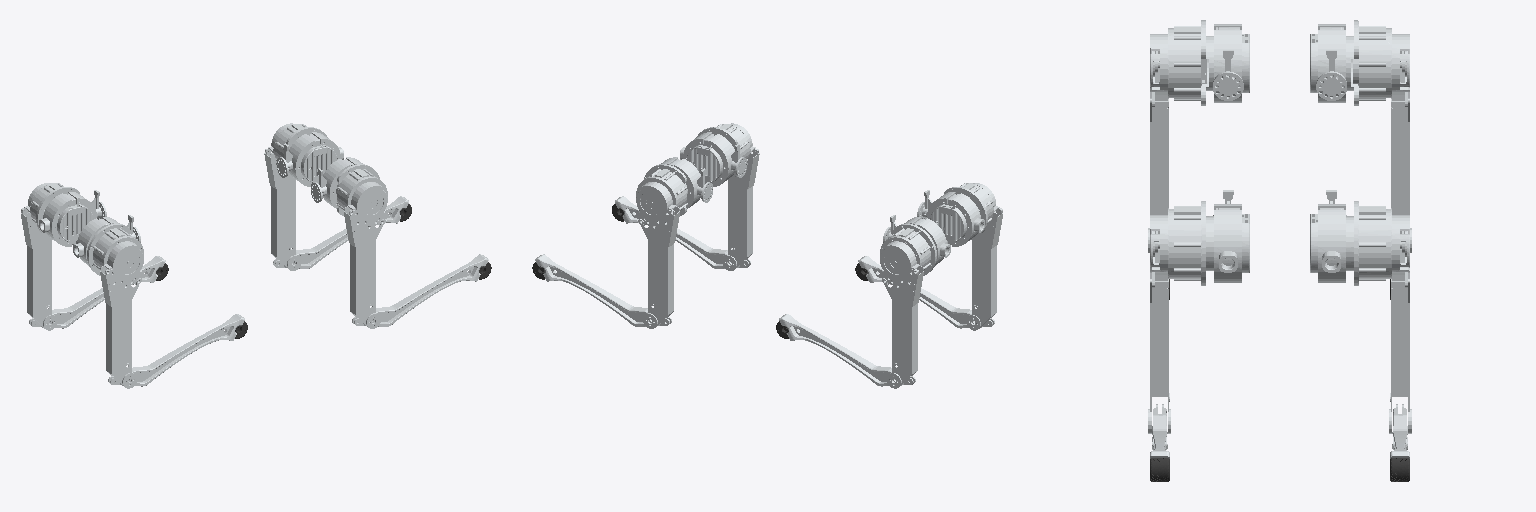
robot.urdf — 00000JQG:
<?xml version="1.0" encoding="utf-8"?>
<!-- This URDF was automatically created by SolidWorks to URDF Exporter! Originally created by Stephen Brawner (brawner@gmail.com) 
     Commit Version: 1.6.0-4-g7f85cfe  Build Version: 1.6.7995.38578
     For more information, please see http://wiki.ros.org/sw_urdf_exporter -->
<robot
  name="00000JQG">
  <link
    name="base_link">
    <inertial>
      <origin
        xyz="-1.14439237375032E-13 1.15794142292781E-10 0.00190965947230648"
        rpy="0 0 0" />
      <mass
        value="14.58560949" />
      <inertia
        ixx="0.14349257"
        ixy="-0.00026718"
        ixz="-0.00157087"
        iyy="0.74616979"
        iyz="-0.00087515"
        izz="0.81208549" />
    </inertial>
    <visual>
      <origin
        xyz="0 0 0"
        rpy="0 0 0" />
      <geometry>
        <mesh
          filename="../meshes/base_link.STL" />
      </geometry>
      <material
        name="">
        <color
          rgba="0.898039215686275 0.917647058823529 0.929411764705882 1" />
      </material>
    </visual>
    <collision>
      <origin
        xyz="0 0 -0.014"
        rpy="0 0 0" />
      <geometry>
        <box size="0.52 0.20 0.13" />
      </geometry>
    </collision>
  </link>
  <link
    name="FL_hip_Link">
    <inertial>
      <origin
        xyz="0.0822261183438385 -0.00402505837262611 0.000225084195334319"
        rpy="0 0 0" />
      <mass
        value="1.63082880 " />
      <inertia
        ixx="0.00178766"
        ixy="0.00001170"
        ixz="0.00003056"
        iyy="0.00339445"
        iyz="-0.00000246"
        izz="0.00227765" />
    </inertial>
    <visual>
      <origin
        xyz="0 0 0"
        rpy="0 0 0" />
      <geometry>
        <mesh
          filename="../meshes/FL_hip_Link.STL" />
      </geometry>
      <material
        name="">
        <color
          rgba="0.898039215686275 0.917647058823529 0.929411764705882 1" />
      </material>
    </visual>
    <collision>
      <origin
        xyz="0.078 -0.0045 0"
        rpy="0 1.57079632679 0" />
      <geometry>
        <cylinder radius="0.048" length="0.140" />
      </geometry>
    </collision>
  </link>
  <joint
    name="FL_hip_joint"
    type="revolute">
    <origin
      xyz="0.256 0.082501 0.021382"
      rpy="0 0 0" />
    <parent
      link="base_link" />
    <child
      link="FL_hip_Link" />
    <axis
      xyz="-1 0 0" />
    <limit
      lower="-0.5183627878423158"
      upper="0.5183627878423158"
      effort="150"
      velocity="15.71" />
  </joint>
  <link
    name="FL_thigh_Link">
    <inertial>
      <origin
        xyz="-0.00258422324870489 0.0515511863485175 -0.028055285585933"
        rpy="0 0 0" />
      <mass
        value="2.22785066" />
      <inertia
        ixx="0.01460195"
        ixy="0.00035401"
        ixz="-0.00098202"
        iyy="0.01475298"
        iyz="0.00216812"
        izz="0.00338528" />
    </inertial>
    <visual>
      <origin
        xyz="0 0 0"
        rpy="0 0 0" />
      <geometry>
        <mesh
          filename="../meshes/FL_thigh_Link.STL" />
      </geometry>
      <material
        name="">
        <color
          rgba="0.898039215686275 0.917647058823529 0.929411764705882 1" />
      </material>
    </visual>
    <collision>
      <origin
        xyz="-0.00051105 0.1085 -0.15625"
        rpy="0 0 0" />
      <geometry>
        <cylinder radius="0.032" length="0.290" />
      </geometry>
    </collision>
    <collision>
      <origin
        xyz="0 0.054 0"
        rpy="1.57079632679 0 0" />
      <geometry>
        <cylinder radius="0.052" length="0.080" />
      </geometry>
    </collision>
  </link>
  <joint
    name="FL_thigh_joint"
    type="revolute">
    <origin
      xyz="0.084 0.019 0"
      rpy="0 0 0" />
    <parent
      link="FL_hip_Link" />
    <child
      link="FL_thigh_Link" />
    <axis
      xyz="0 -1 0" />
    <limit
      lower="-3.141592653589793"
      upper="3.141592653589793"
      effort="150"
      velocity="15.71" />
  </joint>
  <link
    name="FL_calf_Link">
    <inertial>
      <origin
        xyz="-0.03151465549264 -0.0185015919324566 -0.154508375835849"
        rpy="0 0 0" />
      <mass
        value="0.31845032" />
      <inertia
        ixx="0.00459680"
        ixy="0"
        ixz="-0.00064576"
        iyy="0.00473427"
        iyz="0"
        izz="0.00016433" />
    </inertial>
    <visual>
      <origin
        xyz="0 0 0"
        rpy="0 0 0" />
      <geometry>
        <mesh
          filename="../meshes/FL_calf_Link.STL" />
      </geometry>
      <material
        name="">
        <color
          rgba="0.898039215686275 0.917647058823529 0.929411764705882 1" />
      </material>
    </visual>
    <collision>
      <origin
        xyz="-0.02925 -0.00627 -0.15363"
        rpy="0 1.7587 0" />
      <geometry>
        <box size="0.275 0.016 0.016" />
      </geometry>
    </collision>
  </link>
  <joint
    name="FL_calf_joint"
    type="revolute">
    <origin
      xyz="-0.00051105 0.1085 -0.3125"
      rpy="0 0 0" />
    <parent
      link="FL_thigh_Link" />
    <child
      link="FL_calf_Link" />
    <axis
      xyz="0 -1 0" />
    <limit
      lower="1.0471975511965976"
      upper="2.8797932657906435"
      effort="150"
      velocity="15.71" />
  </joint>
  <link
    name="FL_foot_Link">
    <inertial>
      <origin
        xyz="-0.00835898202593893 -0.00605377894846279 -0.00560196910924343"
        rpy="0 0 0" />
      <mass
        value="0.02703752" />
      <inertia
        ixx="0.00000583"
        ixy="0"
        ixz="0.00000127"
        iyy="0.00000596"
        iyz="0"
        izz="0.00000480" />
    </inertial>
    <visual>
      <origin
        xyz="0 0 0"
        rpy="0 0 0" />
      <geometry>
        <mesh
          filename="../meshes/FL_foot_Link.STL" />
      </geometry>
      <material
        name="">
        <color
          rgba="0.298039215686275 0.298039215686275 0.298039215686275 1" />
      </material>
    </visual>
    <collision>
      <origin
        xyz="-0.0055 -0.006 -0.002"
        rpy="0 0 0" />
      <geometry>
        <sphere radius="0.019" />
      </geometry>
    </collision>
  </link>
  <joint
    name="FL_foot_joint"
    type="fixed">
    <origin
      xyz="-0.058509 -0.012548 -0.30725"
      rpy="0 0 0" />
    <parent
      link="FL_calf_Link" />
    <child
      link="FL_foot_Link" />
    <axis
      xyz="0 0 0" />
  </joint>
  <link
    name="FR_hip_Link">
    <inertial>
      <origin
        xyz="0.0822403790820989 0.00402608151966141 0.000225084195334291"
        rpy="0 0 0" />
      <mass
        value="1.63082880 " />
      <inertia
        ixx="0.00178766"
        ixy="-0.00001198"
        ixz="0.00002973"
        iyy="0.00339445"
        iyz="0.00000246"
        izz="0.00227772" />
    </inertial>
    <visual>
      <origin
        xyz="0 0 0"
        rpy="0 0 0" />
      <geometry>
        <mesh
          filename="../meshes/FR_hip_Link.STL" />
      </geometry>
      <material
        name="">
        <color
          rgba="0.898039215686275 0.917647058823529 0.929411764705882 1" />
      </material>
    </visual>
    <collision>
      <origin
        xyz="0.078 0.0045 0"
        rpy="0 1.57079632679 0" />
      <geometry>
        <cylinder radius="0.048" length="0.140" />
      </geometry>
    </collision>
  </link>
  <joint
    name="FR_hip_joint"
    type="revolute">
    <origin
      xyz="0.256 -0.082501 0.021382"
      rpy="0 0 0" />
    <parent
      link="base_link" />
    <child
      link="FR_hip_Link" />
    <axis
      xyz="-1 0 0" />
    <limit
      lower="-0.5183627878423158"
      upper="0.5183627878423158"
      effort="150"
      velocity="15.71" />
  </joint>
  <link
    name="FR_thigh_Link">
    <inertial>
      <origin
        xyz="-0.00292461336790084 -0.0515461904599887 -0.0280599476657899"
        rpy="0 0 0" />
      <mass
        value="2.22785066" />
      <inertia
        ixx="0.01460195"
        ixy="-0.00032988"
        ixz="-0.00096253"
        iyy="0.01474883"
        iyz="-0.00216834"
        izz="0.00338141" />
    </inertial>
    <visual>
      <origin
        xyz="0 0 0"
        rpy="0 0 0" />
      <geometry>
        <mesh
          filename="../meshes/FR_thigh_Link.STL" />
      </geometry>
      <material
        name="">
        <color
          rgba="0.898039215686275 0.917647058823529 0.929411764705882 1" />
      </material>
    </visual>
    <collision>
      <origin
        xyz="-0.00049105 -0.1085 -0.15625"
        rpy="0 0 0" />
      <geometry>
        <cylinder radius="0.032" length="0.290" />
      </geometry>
    </collision>
    <collision>
      <origin
        xyz="0 -0.054 0"
        rpy="1.57079632679 0 0" />
      <geometry>
        <cylinder radius="0.052" length="0.080" />
      </geometry>
    </collision>
  </link>
  <joint
    name="FR_thigh_joint"
    type="revolute">
    <origin
      xyz="0.084 -0.019 0"
      rpy="0 0 0" />
    <parent
      link="FR_hip_Link" />
    <child
      link="FR_thigh_Link" />
    <axis
      xyz="0 1 0" />
    <limit
      lower="-3.141592653589793"
      upper="3.141592653589793"
      effort="150"
      velocity="15.71" />
  </joint>
  <link
    name="FR_calf_Link">
    <inertial>
      <origin
        xyz="-0.0315346561197509 0.0184965228186439 -0.154520872274196"
        rpy="0 0 0" />
      <mass
        value="0.31845032" />
      <inertia
        ixx="0.00459680"
        ixy="0"
        ixz="-0.00064576"
        iyy="0.00473427"
        iyz="0"
        izz="0.00016433" />
    </inertial>
    <visual>
      <origin
        xyz="0 0 0"
        rpy="0 0 0" />
      <geometry>
        <mesh
          filename="../meshes/FR_calf_Link.STL" />
      </geometry>
      <material
        name="">
        <color
          rgba="0.898039215686275 0.917647058823529 0.929411764705882 1" />
      </material>
    </visual>
    <collision>
      <origin
        xyz="-0.02926 0.00627 -0.15363"
        rpy="0 1.7587 0" />
      <geometry>
        <box size="0.275 0.016 0.016" />
      </geometry>
    </collision>
  </link>
  <joint
    name="FR_calf_joint"
    type="revolute">
    <origin
      xyz="-0.00049105 -0.1085 -0.31249"
      rpy="0 0 0" />
    <parent
      link="FR_thigh_Link" />
    <child
      link="FR_calf_Link" />
    <axis
      xyz="0 1 0" />
    <limit
      lower="-2.8797932657906435"
      upper="-1.0471975511965976"
      effort="150"
      velocity="15.71" />
  </joint>
  <link
    name="FR_foot_Link">
    <inertial>
      <origin
        xyz="-0.00835893154116901 0.00605376747239483 -0.00560213441994689"
        rpy="0 0 0" />
      <mass
        value="0.02703752" />
      <inertia
        ixx="0.00000583"
        ixy="0"
        ixz="0.00000127"
        iyy="0.00000596"
        iyz="0"
        izz="0.00000480" />
    </inertial>
    <visual>
      <origin
        xyz="0 0 0"
        rpy="0 0 0" />
      <geometry>
        <mesh
          filename="../meshes/FR_foot_Link.STL" />
      </geometry>
      <material
        name="">
        <color
          rgba="0.298039215686275 0.298039215686275 0.298039215686275 1" />
      </material>
    </visual>
    <collision>
      <origin
        xyz="-0.0055 0.006 -0.002"
        rpy="0 0 0" />
      <geometry>
        <sphere radius="0.019" />
      </geometry>
    </collision>
  </link>
  <joint
    name="FR_foot_joint"
    type="fixed">
    <origin
      xyz="-0.058529 0.012548 -0.30726"
      rpy="0 0 0" />
    <parent
      link="FR_calf_Link" />
    <child
      link="FR_foot_Link" />
    <axis
      xyz="0 0 0" />
  </joint>
  <link
    name="RL_hip_Link">
    <inertial>
      <origin
        xyz="-0.0822403774630709 -0.00402658465062838 0.000224748006798142"
        rpy="0 0 0" />
      <mass
        value="1.63082880 " />
      <inertia
        ixx="0.00178766"
        ixy="-0.00001198"
        ixz="-0.00002973"
        iyy="0.00339454"
        iyz="-0.00000246"
        izz="0.00227772" />
    </inertial>
    <visual>
      <origin
        xyz="0 0 0"
        rpy="0 0 0" />
      <geometry>
        <mesh
          filename="../meshes/RL_hip_Link.STL" />
      </geometry>
      <material
        name="">
        <color
          rgba="0.898039215686275 0.917647058823529 0.929411764705882 1" />
      </material>
    </visual>
    <collision>
      <origin
        xyz="-0.078 -0.0045 0"
        rpy="0 1.57079632679 0" />
      <geometry>
        <cylinder radius="0.048" length="0.140" />
      </geometry>
    </collision>
  </link>
  <joint
    name="RL_hip_joint"
    type="revolute">
    <origin
      xyz="-0.256 0.082501 0.021382"
      rpy="0 0 0" />
    <parent
      link="base_link" />
    <child
      link="RL_hip_Link" />
    <axis
      xyz="1 0 0" />
    <limit
      lower="-0.5183627878423158"
      upper="0.5183627878423158"
      effort="150"
      velocity="15.71" />
  </joint>
  <link
    name="RL_thigh_Link">
    <inertial>
      <origin
        xyz="-0.00455770829798774 0.0515517812254213 -0.0280547720885476"
        rpy="0 0 0" />
      <mass
        value="2.22785066" />
      <inertia
        ixx="0.01460274"
        ixy="0.00021505"
        ixz="-0.00086967"
        iyy="0.01472577"
        iyz="0.00216812"
        izz="0.00335807" />
    </inertial>
    <visual>
      <origin
        xyz="0 0 0"
        rpy="0 0 0" />
      <geometry>
        <mesh
          filename="../meshes/RL_thigh_Link.STL" />
      </geometry>
      <material
        name="">
        <color
          rgba="0.898039215686275 0.917647058823529 0.929411764705882 1" />
      </material>
    </visual>
    <collision>
      <origin
        xyz="-0.00051106 0.1085 -0.15625"
        rpy="0 0 0" />
      <geometry>
        <cylinder radius="0.032" length="0.290" />
      </geometry>
    </collision>
    <collision>
      <origin
        xyz="0 0.054 0"
        rpy="1.57079632679 0 0" />
      <geometry>
        <cylinder radius="0.052" length="0.080" />
      </geometry>
    </collision>
  </link>
  <joint
    name="RL_thigh_joint"
    type="revolute">
    <origin
      xyz="-0.084 0.018999 0"
      rpy="0 0 0" />
    <parent
      link="RL_hip_Link" />
    <child
      link="RL_thigh_Link" />
    <axis
      xyz="0 -1 0" />
    <limit
      lower="-3.141592653589793"
      upper="3.141592653589793"
      effort="150"
      velocity="15.71" />
  </joint>
  <link
    name="RL_calf_Link">
    <inertial>
      <origin
        xyz="-0.031677984761081 -0.0185015910996491 -0.154668496603852"
        rpy="0 0 0" />
      <mass
        value="0.31845032" />
      <inertia
        ixx="0.00459680"
        ixy="0"
        ixz="-0.00064576"
        iyy="0.00473427"
        iyz="0"
        izz="0.00016433" />
    </inertial>
    <visual>
      <origin
        xyz="0 0 0"
        rpy="0 0 0" />
      <geometry>
        <mesh
          filename="../meshes/RL_calf_Link.STL" />
      </geometry>
      <material
        name="">
        <color
          rgba="0.898039215686275 0.917647058823529 0.929411764705882 1" />
      </material>
    </visual>
    <collision>
      <origin
        xyz="-0.02926 -0.00627 -0.15385"
        rpy="0 1.7587 0" />
      <geometry>
        <box size="0.275 0.016 0.016" />
      </geometry>
    </collision>
  </link>
  <joint
    name="RL_calf_joint"
    type="revolute">
    <origin
      xyz="-0.00051106 0.1085 -0.3125"
      rpy="0 0 0" />
    <parent
      link="RL_thigh_Link" />
    <child
      link="RL_calf_Link" />
    <axis
      xyz="0 -1 0" />
    <limit
      lower="1.0471975511965976"
      upper="2.8797932657906435"
      effort="150"
      velocity="15.71" />
  </joint>
  <link
    name="RL_foot_Link">
    <inertial>
      <origin
        xyz="-0.00836046459175221 -0.00584617034022727 -0.00559982673195092"
        rpy="0 0 0" />
      <mass
        value="0.02703752" />
      <inertia
        ixx="0.00000583"
        ixy="0"
        ixz="0.00000127"
        iyy="0.00000596"
        iyz="0"
        izz="0.00000480" />
    </inertial>
    <visual>
      <origin
        xyz="0 0 0"
        rpy="0 0 0" />
      <geometry>
        <mesh
          filename="../meshes/RL_foot_Link.STL" />
      </geometry>
      <material
        name="">
        <color
          rgba="0.298039215686275 0.298039215686275 0.298039215686275 1" />
      </material>
    </visual>
    <collision>
      <origin
        xyz="-0.0055 -0.00585 -0.002"
        rpy="0 0 0" />
      <geometry>
        <sphere radius="0.019" />
      </geometry>
    </collision>
  </link>
  <joint
    name="RL_foot_joint"
    type="fixed">
    <origin
      xyz="-0.058511 -0.012548 -0.3077"
      rpy="0 0 0" />
    <parent
      link="RL_calf_Link" />
    <child
      link="RL_foot_Link" />
    <axis
      xyz="0 0 0" />
  </joint>
  <link
    name="RR_hip_Link">
    <inertial>
      <origin
        xyz="-0.0822257393998799 0.00402505837262612 0.000225084195334291"
        rpy="0 0 0" />
      <mass
        value="1.63082880 " />
      <inertia
        ixx="0.00178766"
        ixy="0.00001170"
        ixz="-0.00003056"
        iyy="0.00339445"
        iyz="0.00000246"
        izz="0.00227765" />
    </inertial>
    <visual>
      <origin
        xyz="0 0 0"
        rpy="0 0 0" />
      <geometry>
        <mesh
          filename="../meshes/RR_hip_Link.STL" />
      </geometry>
      <material
        name="">
        <color
          rgba="0.898039215686275 0.917647058823529 0.929411764705882 1" />
      </material>
    </visual>
    <collision>
      <origin
        xyz="-0.078 0.0045 0"
        rpy="0 1.57079632679 0" />
      <geometry>
        <cylinder radius="0.048" length="0.140" />
      </geometry>
    </collision>
  </link>
  <joint
    name="RR_hip_joint"
    type="revolute">
    <origin
      xyz="-0.256 -0.082501 0.021382"
      rpy="0 0 0" />
    <parent
      link="base_link" />
    <child
      link="RR_hip_Link" />
    <axis
      xyz="1 0 0" />
    <limit
      lower="-0.5183627878423158"
      upper="0.5183627878423158"
      effort="150"
      velocity="15.71" />
  </joint>
  <link
    name="RR_thigh_Link">
    <inertial>
      <origin
        xyz="-0.00489889185894354 -0.0515461922200159 -0.0280599390918598"
        rpy="0 0 0" />
      <mass
        value="2.22785066" />
      <inertia
        ixx="0.01460195"
        ixy="-0.00019094"
        ixz="-0.00085016"
        iyy="0.01471887"
        iyz="-0.00216834"
        izz="0.00335145" />
    </inertial>
    <visual>
      <origin
        xyz="0 0 0"
        rpy="0 0 0" />
      <geometry>
        <mesh
          filename="../meshes/RR_thigh_Link.STL" />
      </geometry>
      <material
        name="">
        <color
          rgba="0.898039215686275 0.917647058823529 0.929411764705882 1" />
      </material>
    </visual>
    <collision>
      <origin
        xyz="-0.00049149 -0.1085 -0.15625"
        rpy="0 0 0" />
      <geometry>
        <cylinder radius="0.032" length="0.290" />
      </geometry>
    </collision>
    <collision>
      <origin
        xyz="0 -0.054 0"
        rpy="1.57079632679 0 0" />
      <geometry>
        <cylinder radius="0.052" length="0.080" />
      </geometry>
    </collision>
  </link>
  <joint
    name="RR_thigh_joint"
    type="revolute">
    <origin
      xyz="-0.084 -0.019 0"
      rpy="0 0 0" />
    <parent
      link="RR_hip_Link" />
    <child
      link="RR_thigh_Link" />
    <axis
      xyz="0 1 0" />
    <limit
      lower="-3.141592653589793"
      upper="3.141592653589793"
      effort="150"
      velocity="15.71" />
  </joint>
  <link
    name="RR_calf_Link">
    <inertial>
      <origin
        xyz="-0.0316980035049221 0.018496523568868 -0.154680996834189"
        rpy="0 0 0" />
      <mass
        value="0.31845032" />
      <inertia
        ixx="0.00459680"
        ixy="0"
        ixz="-0.00064576"
        iyy="0.00473427"
        iyz="0"
        izz="0.00016433" />
    </inertial>
    <visual>
      <origin
        xyz="0 0 0"
        rpy="0 0 0" />
      <geometry>
        <mesh
          filename="../meshes/RR_calf_Link.STL" />
      </geometry>
      <material
        name="">
        <color
          rgba="0.898039215686275 0.917647058823529 0.929411764705882 1" />
      </material>
    </visual>
    <collision>
      <origin
        xyz="-0.02929 0.00627 -0.15382"
        rpy="0 1.7589 0" />
      <geometry>
        <box size="0.275 0.016 0.016" />
      </geometry>
    </collision>
  </link>
  <joint
    name="RR_calf_joint"
    type="revolute">
    <origin
      xyz="-0.00049149 -0.1085 -0.31249"
      rpy="0 0 0" />
    <parent
      link="RR_thigh_Link" />
    <child
      link="RR_calf_Link" />
    <axis
      xyz="0 1 0" />
    <limit
      lower="-2.8797932657906435"
      upper="-1.0471975511965976"
      effort="150"
      velocity="15.71" />
  </joint>
  <link
    name="RR_foot_Link">
    <inertial>
      <origin
        xyz="-0.00836051544634586 0.00584615903980862 -0.00559966061025102"
        rpy="0 0 0" />
      <mass
        value="0.02703752" />
      <inertia
        ixx="0.00000583"
        ixy="0"
        ixz="0.00000127"
        iyy="0.00000596"
        iyz="0"
        izz="0.00000480" />
    </inertial>
    <visual>
      <origin
        xyz="0 0 0"
        rpy="0 0 0" />
      <geometry>
        <mesh
          filename="../meshes/RR_foot_Link.STL" />
      </geometry>
      <material
        name="">
        <color
          rgba="0.298039215686275 0.298039215686275 0.298039215686275 1" />
      </material>
    </visual>
    <collision>
      <origin
        xyz="-0.0055 0.00585 -0.002"
        rpy="0 0 0" />
      <geometry>
        <sphere radius="0.019" />
      </geometry>
    </collision>
  </link>
  <joint
    name="RR_foot_joint"
    type="fixed">
    <origin
      xyz="-0.058582 0.012548 -0.30764"
      rpy="0 0 0" />
    <parent
      link="RR_calf_Link" />
    <child
      link="RR_foot_Link" />
    <axis
      xyz="0 0 0" />
  </joint>
</robot>

--- Render facts (derived) ---
Views: 3 orthographic renders of the robot side by side, from view 1: azimuth 30°, elevation 25°; view 2: azimuth 150°, elevation 25°; view 3: azimuth 270°, elevation 25°.
Model 00000JQG with 17 links and 16 joints (12 revolute, 4 fixed), rooted at base_link, posed joints at zero except 4 at the middle of their limits (FL_calf_joint = 1.96, FR_calf_joint = -1.96, RL_calf_joint = 1.96, RR_calf_joint = -1.96).
Visible links, largest first — view 1: RR_thigh_Link, FR_thigh_Link, RL_thigh_Link, FL_thigh_Link, RL_hip_Link, FL_hip_Link, FR_calf_Link, RR_calf_Link, FL_calf_Link, RL_calf_Link, FR_hip_Link, RR_hip_Link; view 2: RL_thigh_Link, FL_thigh_Link, RR_thigh_Link, FR_thigh_Link, RR_hip_Link, FR_hip_Link, FL_calf_Link, RL_calf_Link, FR_calf_Link, RR_calf_Link, FL_hip_Link, RL_hip_Link; view 3: FL_thigh_Link, FR_thigh_Link, RR_thigh_Link, RL_thigh_Link, FL_hip_Link, FR_hip_Link, RL_hip_Link, RR_hip_Link, FL_calf_Link, FR_calf_Link.
Link boxes in pixels (left/top/right/bottom): RR_thigh_Link: left=87, top=224, right=143, bottom=388; FR_thigh_Link: left=336, top=164, right=387, bottom=328; RL_thigh_Link: left=21, top=183, right=79, bottom=330; FL_thigh_Link: left=264, top=123, right=327, bottom=270; RL_hip_Link: left=39, top=190, right=106, bottom=246; FL_hip_Link: left=276, top=132, right=343, bottom=186; FR_calf_Link: left=352, top=254, right=488, bottom=326; RR_calf_Link: left=108, top=314, right=244, bottom=386; FL_calf_Link: left=273, top=196, right=408, bottom=268; RL_calf_Link: left=29, top=256, right=165, bottom=328; FR_hip_Link: left=311, top=157, right=362, bottom=208; RR_hip_Link: left=73, top=215, right=140, bottom=265; RL_thigh_Link: left=880, top=224, right=936, bottom=388; FL_thigh_Link: left=636, top=164, right=687, bottom=328; RR_thigh_Link: left=944, top=183, right=1002, bottom=330; FR_thigh_Link: left=696, top=123, right=759, bottom=270; RR_hip_Link: left=917, top=190, right=984, bottom=246; FR_hip_Link: left=680, top=132, right=747, bottom=186; FL_calf_Link: left=535, top=254, right=671, bottom=326; RL_calf_Link: left=779, top=314, right=915, bottom=386; FR_calf_Link: left=615, top=196, right=750, bottom=268; RR_calf_Link: left=858, top=256, right=994, bottom=328; FL_hip_Link: left=661, top=157, right=712, bottom=208; RL_hip_Link: left=883, top=215, right=950, bottom=265; FL_thigh_Link: left=1346, top=201, right=1411, bottom=433; FR_thigh_Link: left=1148, top=201, right=1213, bottom=433; RR_thigh_Link: left=1148, top=20, right=1213, bottom=252; RL_thigh_Link: left=1346, top=20, right=1411, bottom=252; FL_hip_Link: left=1310, top=190, right=1346, bottom=282; FR_hip_Link: left=1213, top=190, right=1249, bottom=282; RL_hip_Link: left=1310, top=24, right=1346, bottom=102; RR_hip_Link: left=1213, top=24, right=1249, bottom=102; FL_calf_Link: left=1390, top=404, right=1409, bottom=458; FR_calf_Link: left=1150, top=404, right=1169, bottom=458.
Size in the robot's own frame: 1.09 by 0.42 by 0.4079 metres.
Meshes: 17 distinct files referenced, 16 mesh visuals loaded (16 binary STL); not drawn: 1 (reference not matched to a file when rendering).
